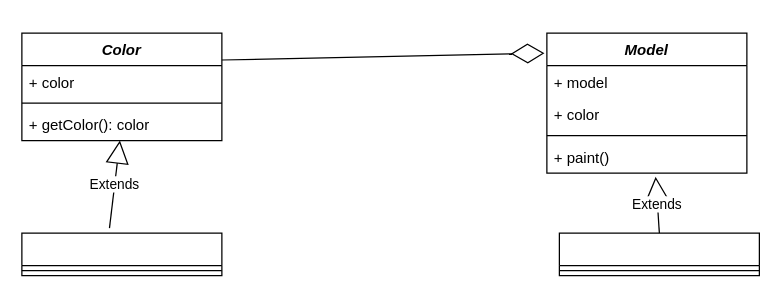
Image size: 781x298. Some labels were removed from this diagram. Each missing label, with the centre of its shape:
"Audi" belongs at point 658,254.
"BlackColor" belongs at point 121,254.
